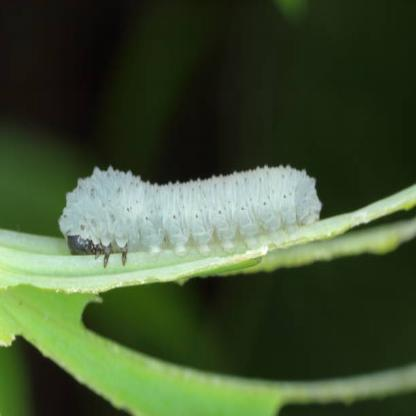sawfly: (55, 152, 326, 277)
